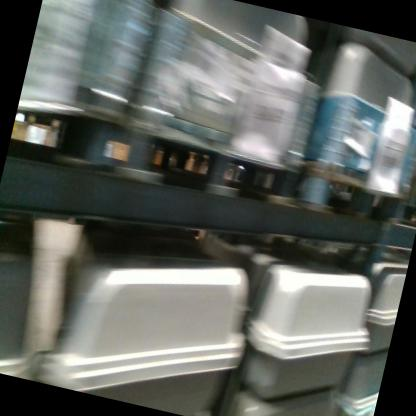pallet: (112, 117, 311, 221), (6, 91, 128, 181), (300, 163, 410, 234), (400, 200, 416, 230)
